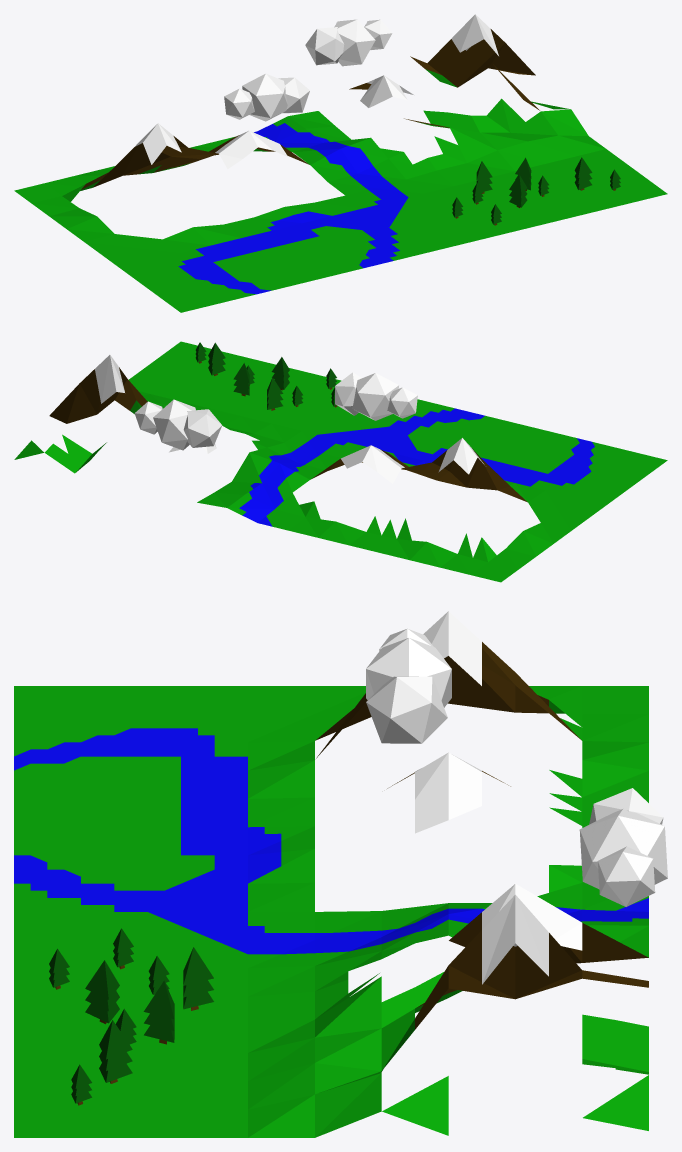
Rendered from globMap.gltf.
The picture shows the model from 3 angles, top to bottom: view 1: azimuth 30°, elevation 25°; view 2: azimuth 150°, elevation 25°; view 3: azimuth 270°, elevation 25°; orthographic projection. The views are drawn at different scales.
Parts seen in each view (by area): view 1: Plane, Icosphere.001, Icosphere, Cone.004; view 2: Plane, Icosphere.001, Icosphere, Cone.004, Cone.000; view 3: Plane, Icosphere.001, Icosphere, Cone.004, Cone.000.
Part boxes in pixels (bbox=[...]): Plane: bbox=[14, 14, 667, 312]; Icosphere.001: bbox=[305, 19, 392, 66]; Icosphere: bbox=[224, 73, 309, 121]; Cone.004: bbox=[452, 157, 620, 225]; Plane: bbox=[14, 341, 667, 582]; Icosphere.001: bbox=[134, 399, 222, 450]; Icosphere: bbox=[335, 372, 417, 420]; Cone.004: bbox=[195, 342, 337, 410]; Cone.000: bbox=[271, 357, 289, 390]; Plane: bbox=[14, 611, 648, 1137]; Icosphere.001: bbox=[579, 788, 667, 906]; Icosphere: bbox=[366, 628, 451, 743]; Cone.004: bbox=[49, 928, 213, 1105]; Cone.000: bbox=[85, 960, 119, 1024].
Bounding box in the file's own units: 21.18 × 5 × 12.95.
